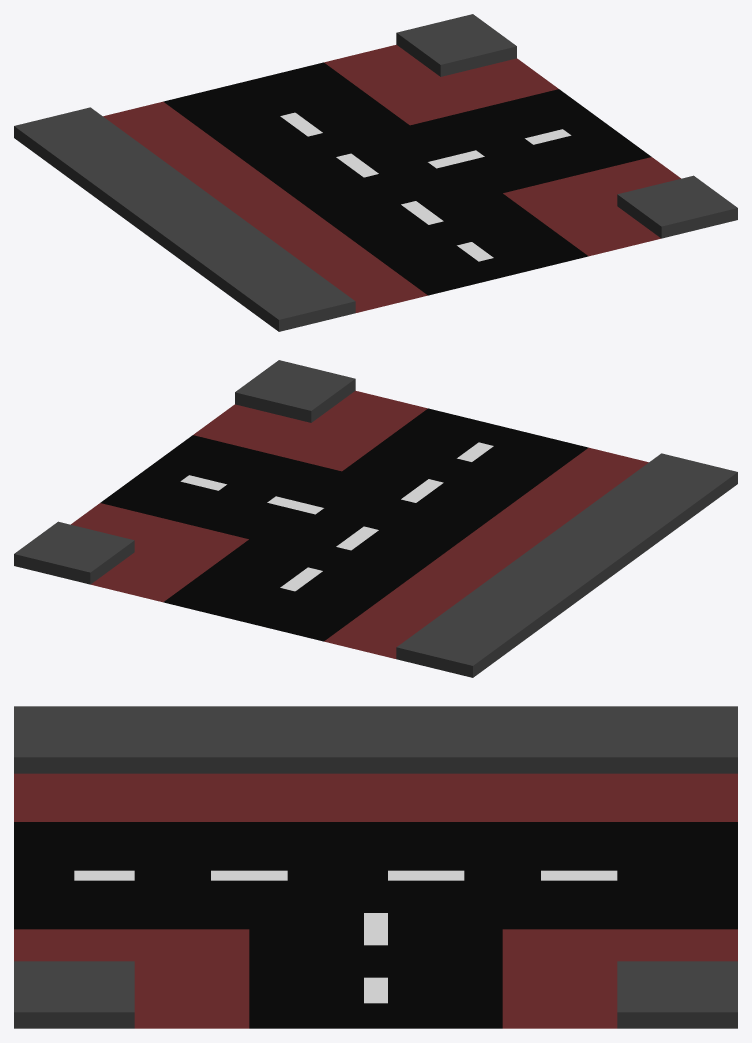
Rendered from RoadTLvl2.fbx.
3 views of the same model, one above another, from view 1: azimuth 30°, elevation 25°; view 2: azimuth 150°, elevation 25°; view 3: azimuth 270°, elevation 25° (orthographic). The views are drawn at different scales.
Parts seen in each view (by area): view 1: Road_T_CornerLvL2.001; view 2: Road_T_CornerLvL2.001; view 3: Road_T_CornerLvL2.001.
Boxes of the visible parts, <box> form: Road_T_CornerLvL2.001: <box>14,14,737,331</box>; Road_T_CornerLvL2.001: <box>14,360,737,677</box>; Road_T_CornerLvL2.001: <box>14,706,737,1028</box>.
Size of the model in its own units: 800 by 20 by 800.
